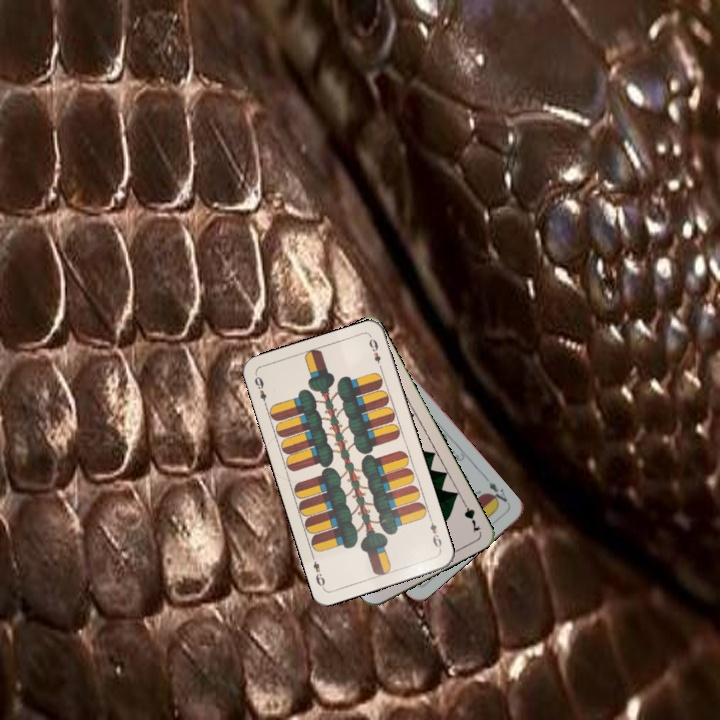E9: (250, 372, 270, 410), (425, 514, 444, 553)
EA: (484, 478, 510, 508)
G7: (458, 496, 483, 535)
